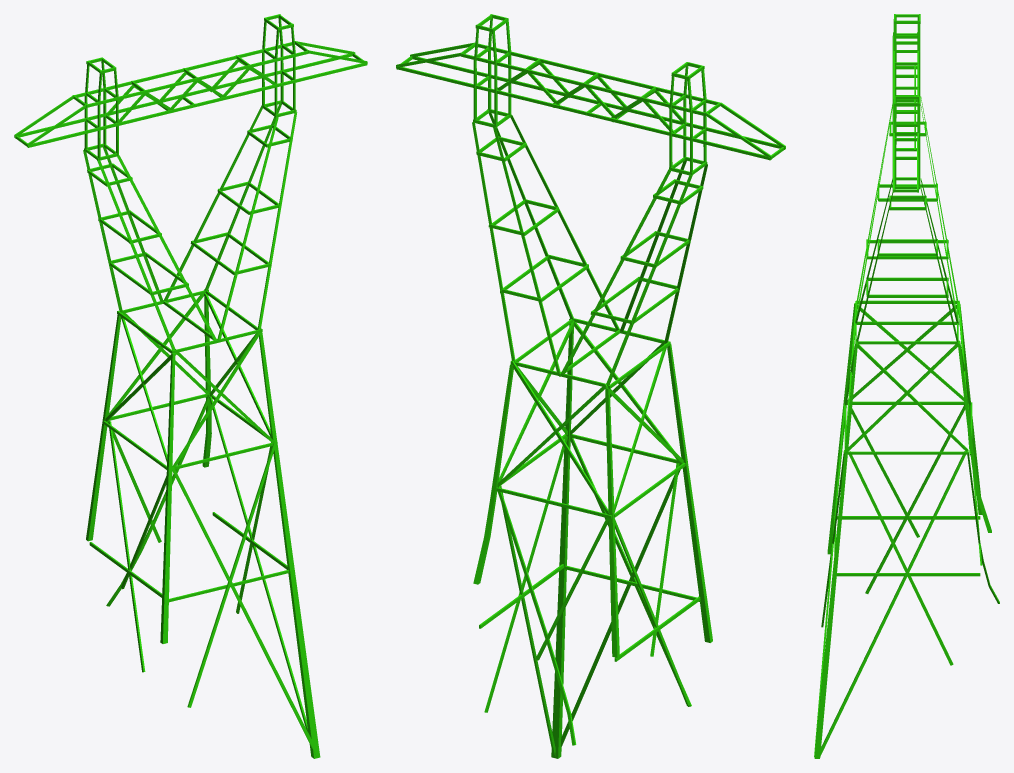
Rendered from Overhead_Power_Line_BreakB_Lod0.fbx.
The picture shows the model from 3 angles, left to right: view 1: azimuth 30°, elevation 25°; view 2: azimuth 150°, elevation 25°; view 3: azimuth 270°, elevation 25°; orthographic projection. The views are drawn at different scales.
Visible parts, largest first — view 1: Overhead_Power_Line_BreakB_Lod0; view 2: Overhead_Power_Line_BreakB_Lod0; view 3: Overhead_Power_Line_BreakB_Lod0.
Boxes of the visible parts, left/top/right/bottom form: Overhead_Power_Line_BreakB_Lod0: left=14, top=14, right=367, bottom=758; Overhead_Power_Line_BreakB_Lod0: left=396, top=14, right=785, bottom=758; Overhead_Power_Line_BreakB_Lod0: left=814, top=14, right=999, bottom=758.
Bounding box in the file's own units: 1882 × 3694 × 939.
